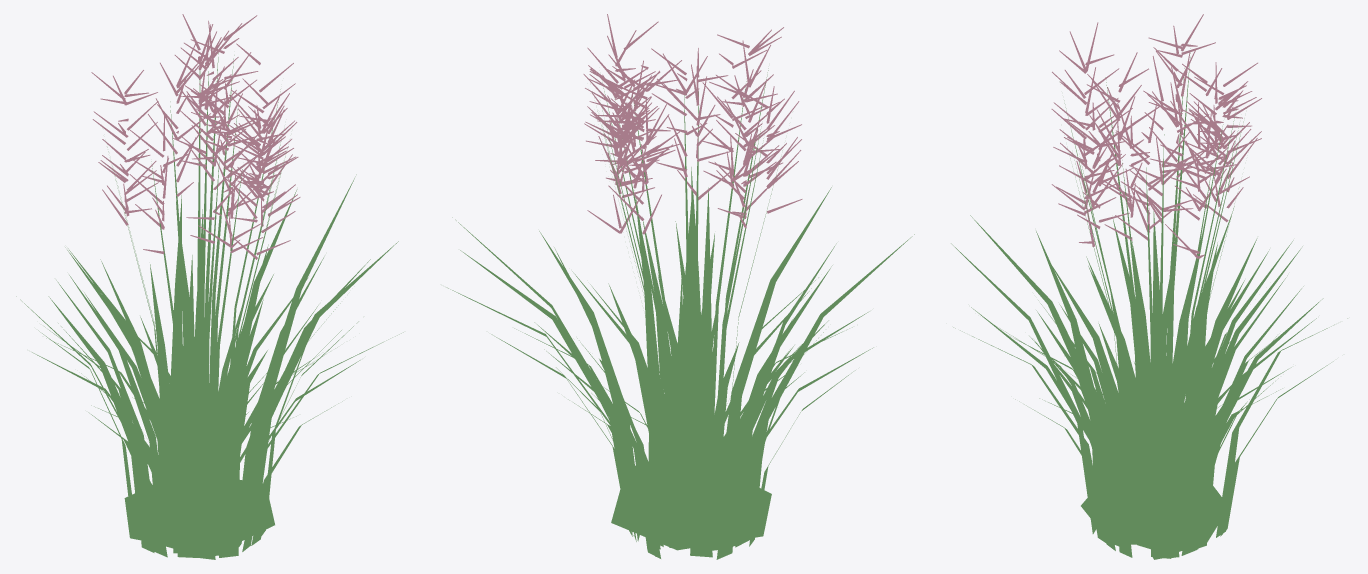
Rendered from Blender_Switchgrass_1.glb.
3 views of the same model, side by side, from view 1: azimuth 30°, elevation 25°; view 2: azimuth 150°, elevation 25°; view 3: azimuth 270°, elevation 25° (orthographic). The views are drawn at different scales.
Parts seen in each view (by area): view 1: Blender_Switchgrass_1; view 2: Blender_Switchgrass_1; view 3: Blender_Switchgrass_1.
Part boxes in pixels (box(x1,y1,x2,y2)): Blender_Switchgrass_1: box(16, 14, 403, 559); Blender_Switchgrass_1: box(446, 14, 914, 559); Blender_Switchgrass_1: box(951, 14, 1347, 559).
Size of the model in its own units: 1.34 by 1.69 by 1.24.
